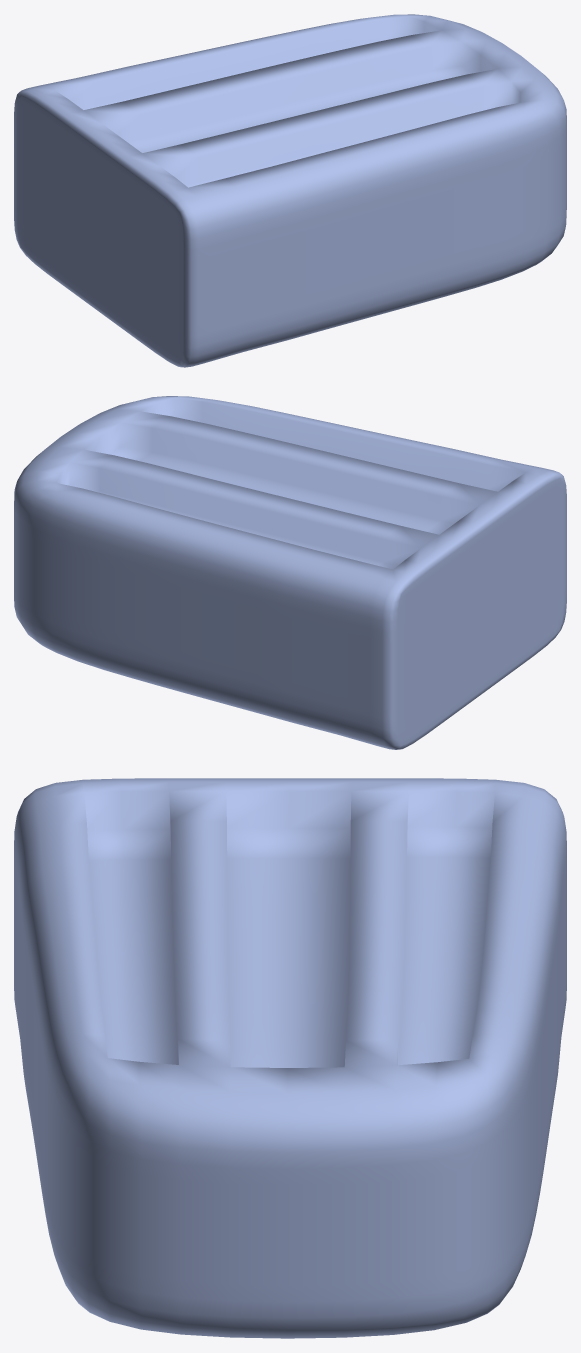
Rendered from SlimeRupa3.fbx.
3 views of the same model, one above another, from view 1: azimuth 30°, elevation 25°; view 2: azimuth 150°, elevation 25°; view 3: azimuth 270°, elevation 25° (orthographic). The views are drawn at different scales.
Visible parts, largest first — view 1: Slime; view 2: Slime; view 3: Slime.
Part boxes in pixels (x1,y1,x2,y2): Slime: (14, 14, 566, 367); Slime: (14, 396, 566, 749); Slime: (14, 778, 566, 1338).
Bounding box in the file's own units: 0.4401 × 0.1682 × 0.3147.
